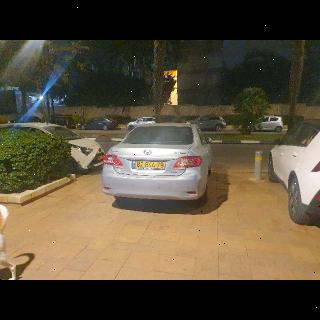LicensePlate: (136, 160, 165, 168)
